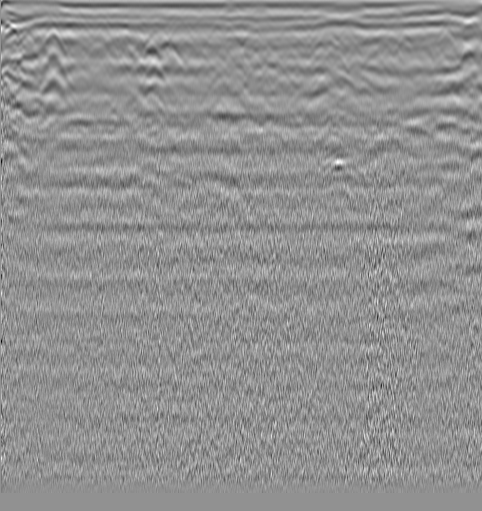가스: (319, 150, 354, 178)
상수: (41, 27, 61, 47)
오수: (434, 26, 454, 46)
우수: (210, 65, 230, 85)
